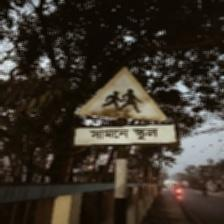School-in-front: (72, 66, 175, 149)
